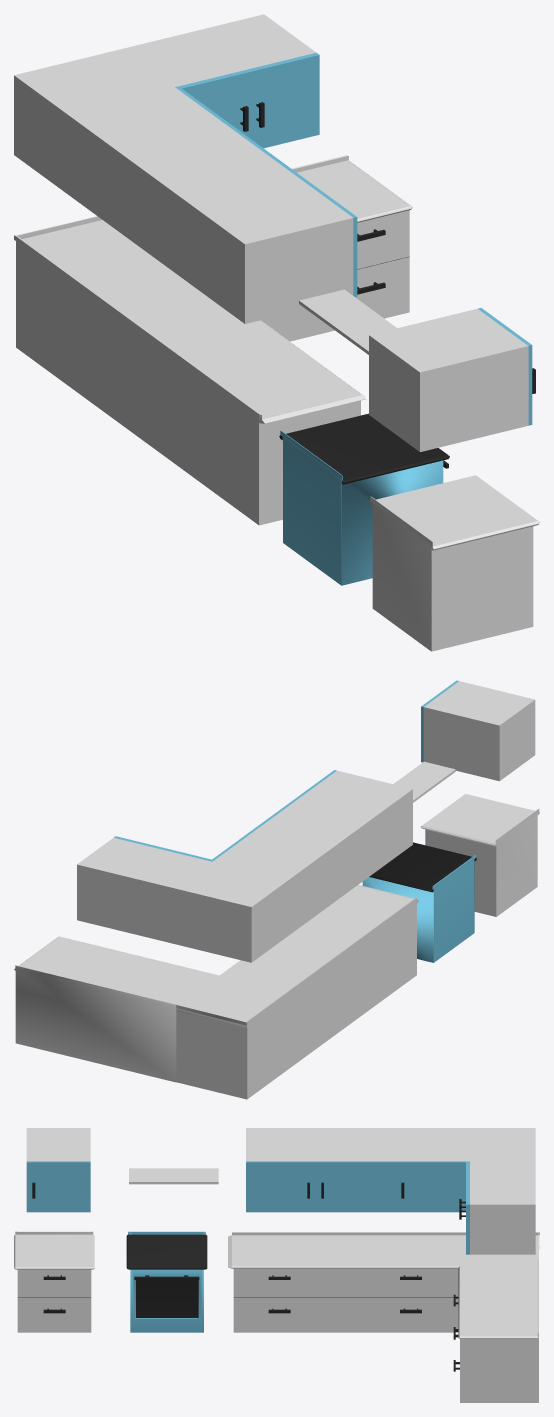
Rendered from mesonessala.fbx.
3 renders of one model, top to bottom at view 1: azimuth 30°, elevation 25°; view 2: azimuth 150°, elevation 25°; view 3: azimuth 270°, elevation 25°, orthographic. The views are drawn at different scales.
Parts seen in each view (by area): view 1: Cubo.004, Cube.002, Cube.001, Cubo.001, Cubo, Cubo.009; view 2: Cube.002, Cubo.004, Cubo.001, Cube.001, Cubo, Cubo.009; view 3: Cube.002, Cubo.004, Cube.001, Cubo, Cubo.001, Cubo.009.
Boxes of the visible parts, box(x1,y1,x2,y2) form: Cubo.004: box(14, 14, 357, 323); Cube.002: box(14, 155, 412, 525); Cube.001: box(369, 475, 539, 651); Cubo.001: box(369, 308, 535, 451); Cubo: box(279, 413, 449, 585); Cubo.009: box(299, 289, 396, 354); Cube.002: box(14, 885, 418, 1099); Cubo.004: box(77, 770, 412, 962); Cubo.001: box(421, 680, 535, 781); Cube.001: box(421, 794, 539, 916); Cubo: box(362, 842, 476, 962); Cubo.009: box(393, 761, 455, 802); Cube.002: box(228, 1231, 539, 1402); Cubo.004: box(246, 1128, 535, 1254); Cube.001: box(14, 1231, 94, 1332); Cubo: box(126, 1231, 207, 1332); Cubo.001: box(26, 1128, 90, 1212); Cubo.009: box(129, 1168, 218, 1184).
Size of the model in its own units: 664 by 516 by 1428.
